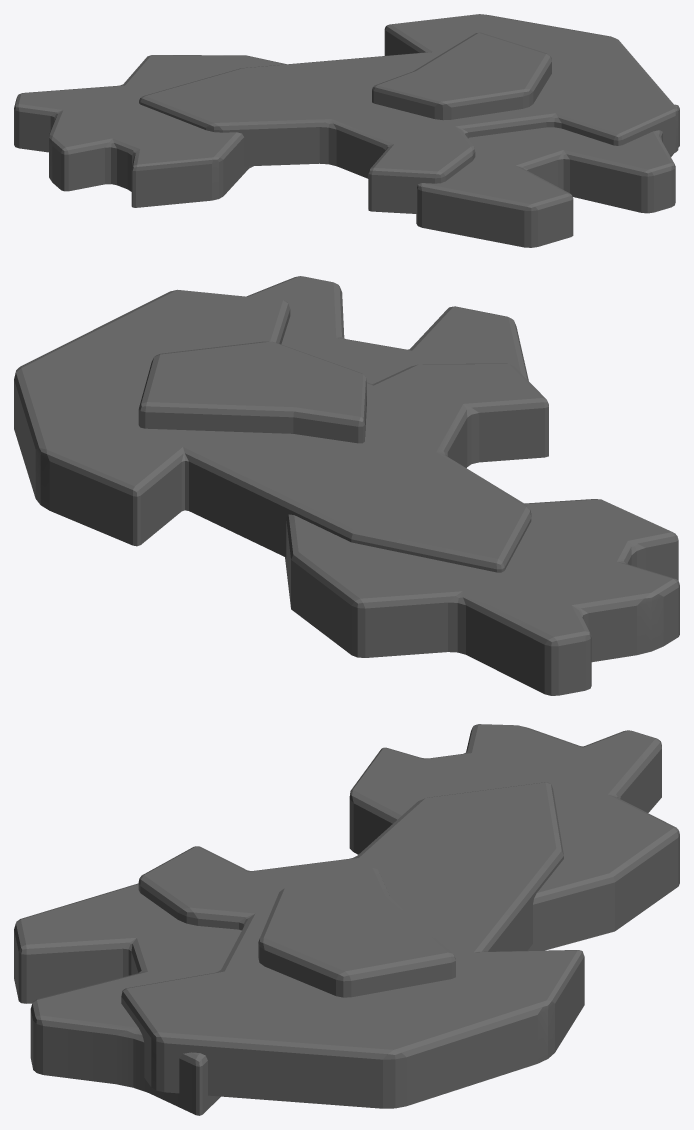
The model's file is mesh_Factory_Ground_Outside_Isle_A.fbx.
3 renders of one model, top to bottom at view 1: azimuth 30°, elevation 25°; view 2: azimuth 150°, elevation 25°; view 3: azimuth 270°, elevation 25°, orthographic. The views are drawn at different scales.
Parts seen in each view (by area): view 1: mesh_Factory_Ground_Outside_Isle_A; view 2: mesh_Factory_Ground_Outside_Isle_A; view 3: mesh_Factory_Ground_Outside_Isle_A.
Boxes of the visible parts, x1,y1,x2,y2 form: mesh_Factory_Ground_Outside_Isle_A: (14,14,679,247); mesh_Factory_Ground_Outside_Isle_A: (14,276,679,695); mesh_Factory_Ground_Outside_Isle_A: (14,724,679,1115).
Size of the model in its own units: 22.65 by 2.88 by 18.67.
